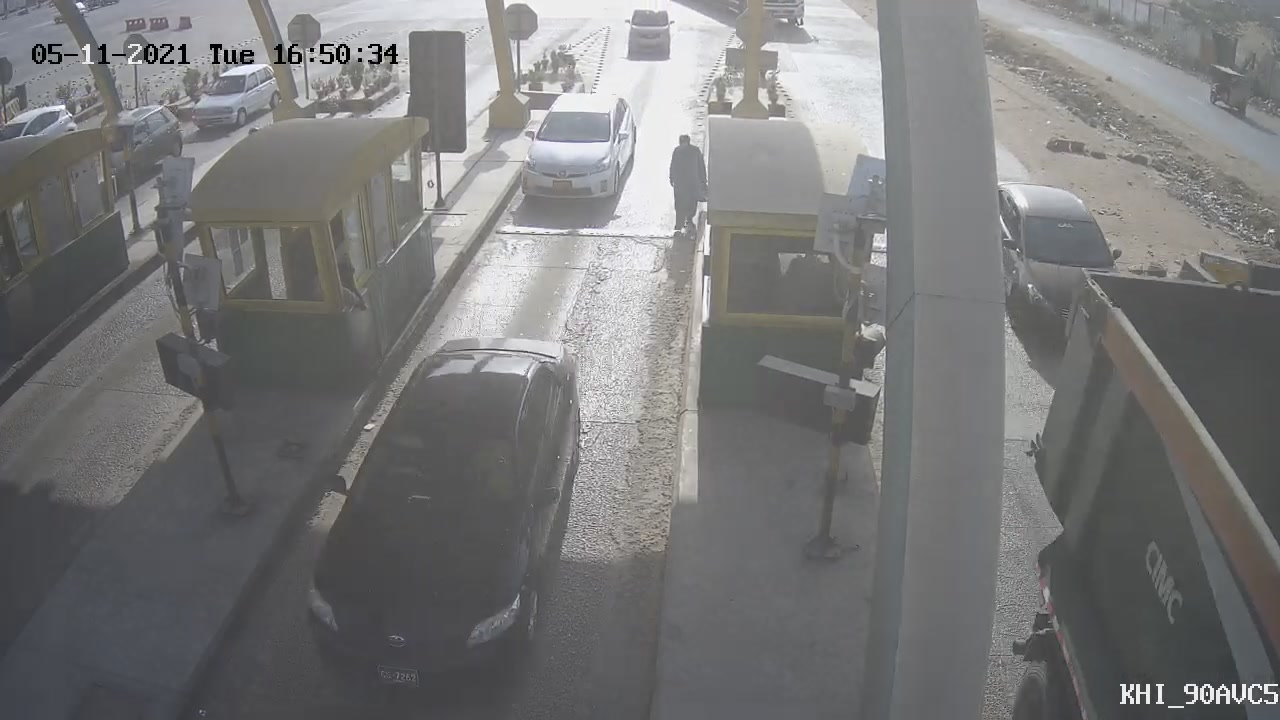F1: (507, 77, 648, 230)
